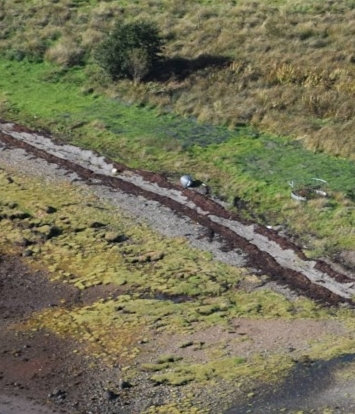white_in_green: (163, 156, 213, 204)
